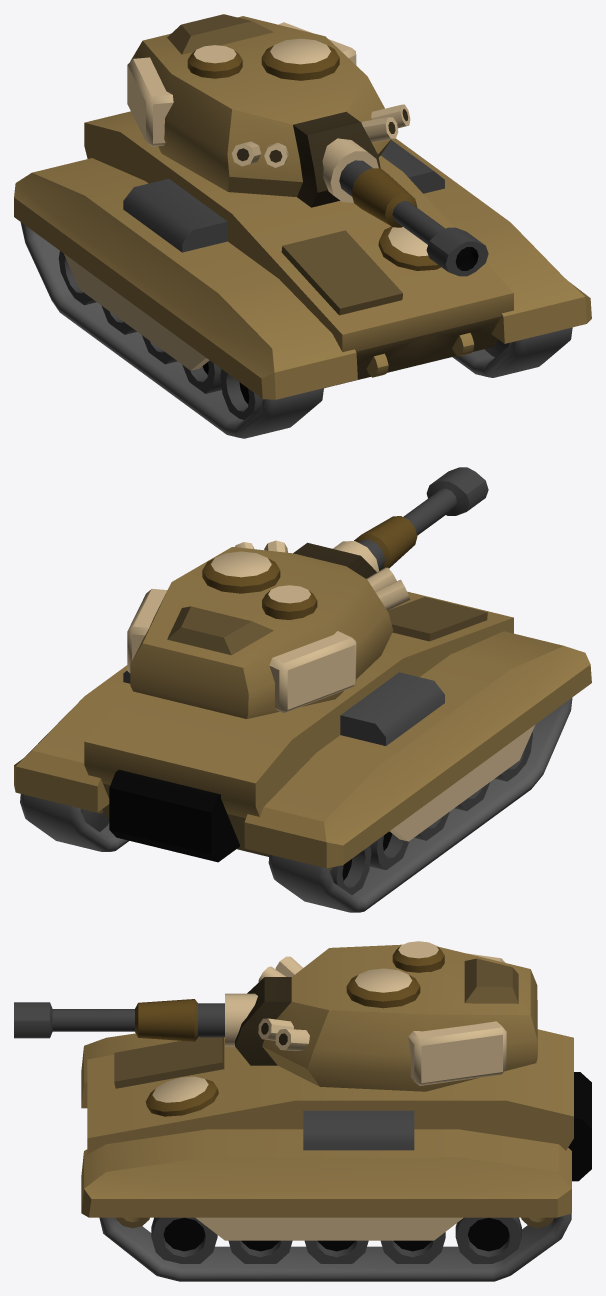
The model's file is Tank 3.fbx.
The picture shows the model from 3 angles, top to bottom: view 1: azimuth 30°, elevation 25°; view 2: azimuth 150°, elevation 25°; view 3: azimuth 270°, elevation 25°; orthographic projection. The views are drawn at different scales.
Parts seen in each view (by area): view 1: Cube.427, Cube.426, Cylinder.466, Circle.018, Cylinder.469, Cube.430, Cube.429, Cube.428, Cylinder.467, Cylinder.470, Cylinder.471, Cylinder.468 (+3 smaller); view 2: Cube.427, Cylinder.466, Cube.426, Circle.018, Cube.431, Cube.428, Cylinder.469, Cube.430, Cube.429, Cylinder.467, Cylinder.468, Cylinder.470 (+2 smaller); view 3: Cube.427, Cylinder.466, Cube.426, Circle.018, Cylinder.469, Cube.428, Cube.430, Cube.429, Cylinder.527, Cylinder.464, Cylinder.467, Cylinder.471 (+7 smaller).
Boxes of the visible parts, x1,y1,x2,y2 form: Cube.427: (14, 138, 591, 399); Cube.426: (84, 111, 513, 388); Cylinder.466: (130, 14, 391, 207); Circle.018: (20, 222, 572, 438); Cylinder.469: (322, 138, 488, 276); Cube.430: (123, 140, 444, 252); Cube.429: (281, 230, 402, 315); Cube.428: (127, 22, 356, 146); Cylinder.467: (261, 38, 339, 80); Cylinder.470: (231, 104, 410, 167); Cylinder.471: (378, 226, 440, 270); Cylinder.468: (187, 45, 242, 78); Cube.427: (14, 631, 591, 868); Cylinder.466: (130, 542, 393, 718); Cube.426: (84, 591, 513, 856); Circle.018: (20, 697, 572, 912); Cube.431: (109, 769, 239, 862); Cube.428: (127, 588, 356, 713); Cylinder.469: (333, 467, 488, 572); Cube.430: (123, 670, 444, 745); Cube.429: (387, 597, 487, 641); Cylinder.467: (202, 551, 280, 593); Cylinder.468: (262, 585, 317, 619); Cylinder.470: (235, 540, 410, 610); Cube.427: (81, 1033, 571, 1240); Cylinder.466: (235, 944, 537, 1091); Cube.426: (87, 1029, 573, 1154); Circle.018: (99, 1213, 571, 1281); Cylinder.469: (14, 993, 257, 1046); Cube.428: (408, 953, 506, 1085); Cube.430: (303, 1110, 414, 1150); Cube.429: (114, 1037, 224, 1088); Cylinder.527: (455, 1217, 521, 1263); Cylinder.464: (151, 1217, 217, 1263); Cylinder.467: (346, 968, 420, 1008); Cylinder.471: (145, 1076, 218, 1116).
Bounding box in the file's own units: 863 × 656 × 1393.
